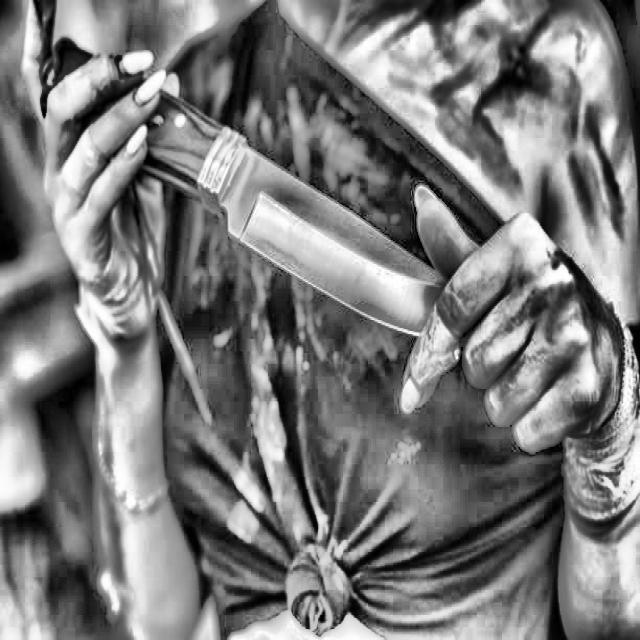pisau: (16, 32, 522, 372)
